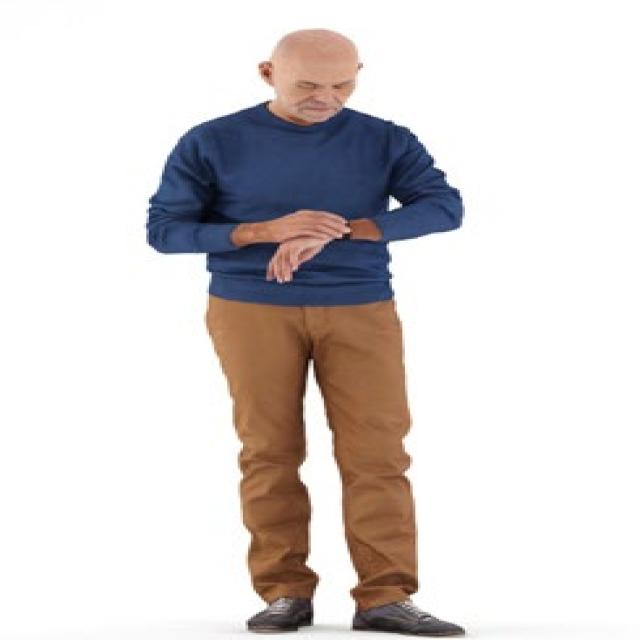standing: (139, 27, 468, 640)
